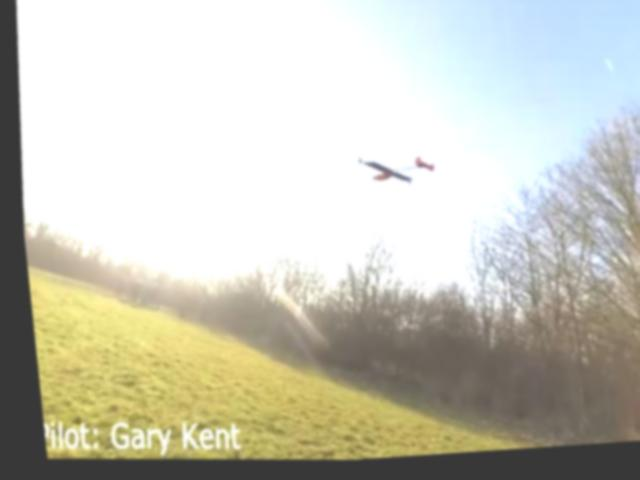uav: (339, 147, 444, 206)
